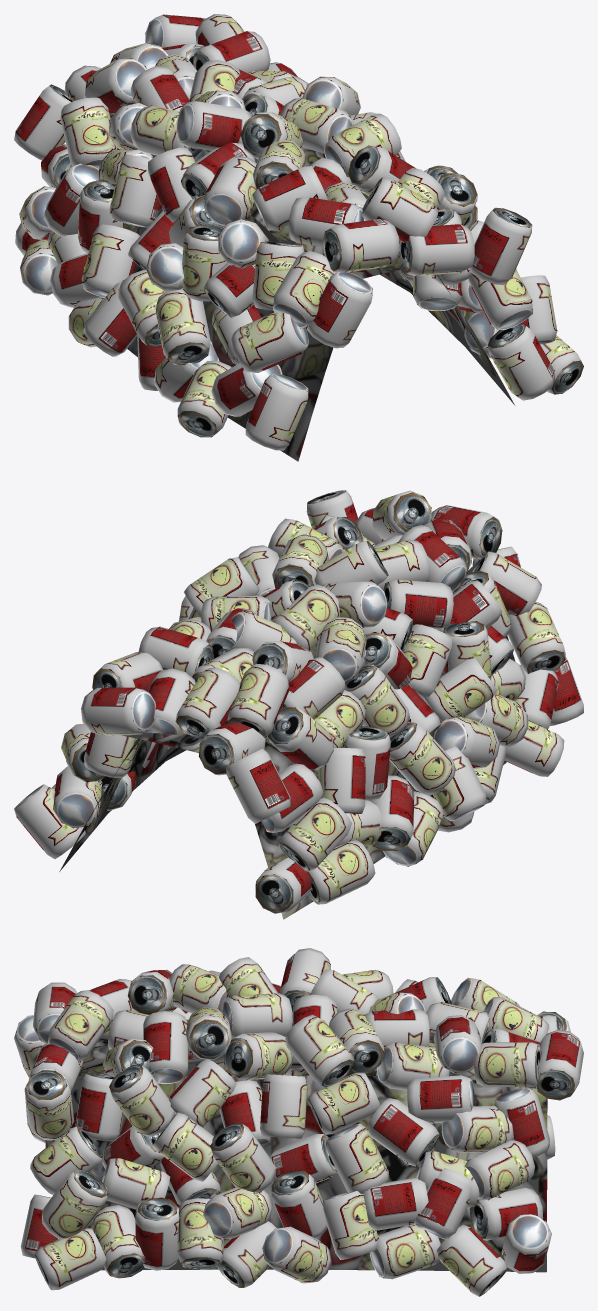
File: damm.fbx
The picture shows the model from 3 angles, top to bottom: view 1: azimuth 30°, elevation 25°; view 2: azimuth 150°, elevation 25°; view 3: azimuth 270°, elevation 25°; orthographic projection. The views are drawn at different scales.
Visible parts, largest first — view 1: Canpicture_Plane_002, Cylinder_036, Cylinder_077, Cylinder_114, Cylinder_118, Cylinder_103, Cylinder_078, Cylinder_096, Cylinder, Cylinder_102, Cylinder_025, Cylinder_113 (+64 smaller); view 2: Cylinder_038, Cylinder_107, Cylinder_111, Cylinder_116, Cylinder_009, Cylinder_033, Cylinder_103, Cylinder_087, Cylinder_102, Cylinder_092, Cylinder_017, Cylinder_089 (+59 smaller); view 3: Canpicture_Plane_001, Cylinder_028, Cylinder_052, Cylinder_043, Cylinder_062, Cylinder_074, Cylinder_053, Cylinder_075, Cylinder_048, Cylinder_025, Cylinder_042, Cylinder_049 (+59 smaller).
Boxes of the visible parts, x1,y1,x2,y2 form: Canpicture_Plane_002: (110, 112, 333, 461); Cylinder_036: (322, 219, 399, 272); Cylinder_077: (487, 324, 554, 400); Cylinder_114: (245, 373, 308, 450); Cylinder_118: (468, 207, 532, 285); Cylinder_103: (231, 312, 309, 372); Cylinder_078: (306, 271, 372, 348); Cylinder_096: (155, 289, 210, 365); Cylinder: (399, 224, 474, 275); Cylinder_102: (60, 97, 117, 169); Cylinder_025: (361, 177, 438, 242); Cylinder_113: (273, 251, 335, 328); Cylinder_038: (81, 687, 155, 735); Cylinder_107: (389, 722, 455, 795); Cylinder_111: (279, 797, 351, 872); Cylinder_116: (226, 748, 290, 823); Cylinder_009: (227, 663, 288, 737); Cylinder_033: (175, 667, 240, 738); Cylinder_103: (508, 602, 565, 673); Cylinder_087: (308, 840, 375, 904); Cylinder_102: (268, 707, 333, 769); Cylinder_092: (424, 657, 497, 722); Cylinder_017: (383, 579, 453, 629); Cylinder_089: (344, 665, 409, 737); Canpicture_Plane_001: (53, 1075, 547, 1272); Cylinder_028: (285, 1014, 354, 1087); Cylinder_052: (42, 1169, 107, 1239); Cylinder_043: (109, 1065, 175, 1136); Cylinder_062: (210, 1123, 275, 1192); Cylinder_074: (366, 1098, 439, 1166); Cylinder_053: (436, 1224, 507, 1296); Cylinder_075: (307, 1072, 380, 1134); Cylinder_048: (326, 1123, 389, 1194); Cylinder_025: (48, 990, 113, 1061); Cylinder_042: (34, 1228, 106, 1290); Cylinder_049: (262, 1226, 331, 1283).
Size of the model in its own units: 905 by 595 by 1242.
3 materials, 3 textured.
